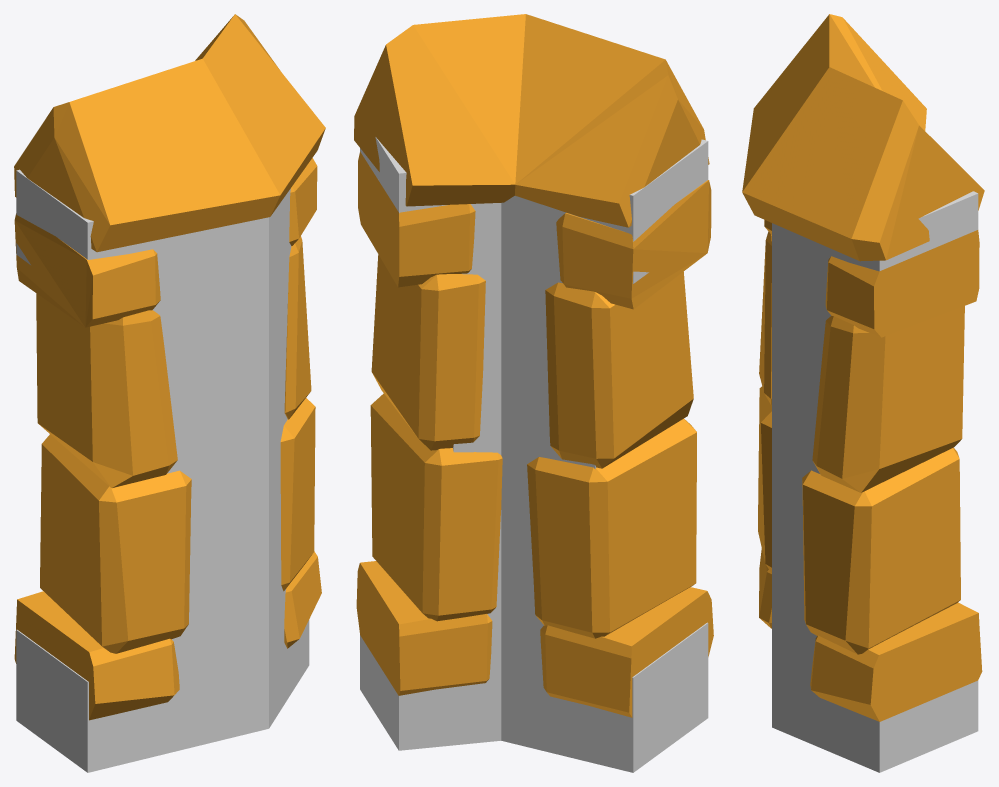
The model's file is SM_Crenelations_Diagonal_Corner_Obtuse_Big_A_Fantasy.fbx.
The picture shows the model from 3 angles, left to right: view 1: azimuth 30°, elevation 25°; view 2: azimuth 150°, elevation 25°; view 3: azimuth 270°, elevation 25°; orthographic projection. The views are drawn at different scales.
Parts seen in each view (by area): view 1: SM_Crenelations_Diagonal_Corner_Obtuse_Big_A_Fantasy; view 2: SM_Crenelations_Diagonal_Corner_Obtuse_Big_A_Fantasy; view 3: SM_Crenelations_Diagonal_Corner_Obtuse_Big_A_Fantasy.
Boxes of the visible parts, bbox=[...] form: SM_Crenelations_Diagonal_Corner_Obtuse_Big_A_Fantasy: bbox=[14, 14, 325, 772]; SM_Crenelations_Diagonal_Corner_Obtuse_Big_A_Fantasy: bbox=[354, 14, 713, 772]; SM_Crenelations_Diagonal_Corner_Obtuse_Big_A_Fantasy: bbox=[742, 14, 984, 772].
Size of the model in its own units: 0.9279 by 2.03 by 0.6951.
